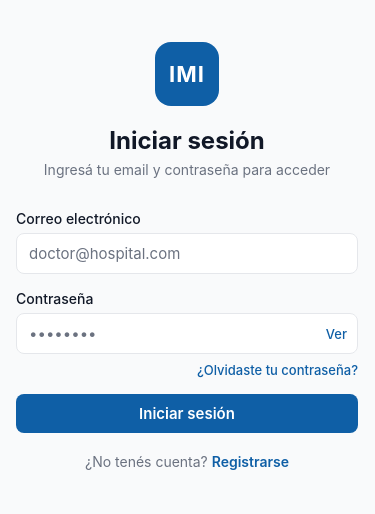
Test: LoginScreen › shows validation error for empty email
This screenshot has width=375, height=514.
Click the text "Iniciar sesión" below "¿Olvidaste tu contraseña?". click: (187,414)
box: [139,404,235,423]
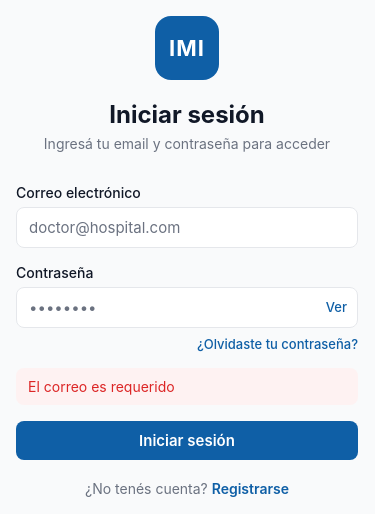
Check: the text "El correo es requerido" is shown, box [28,378,175,394]
